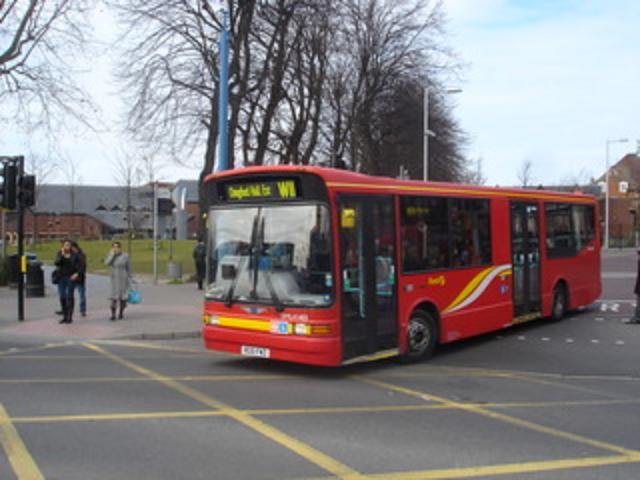bus: (200, 164, 602, 368)
